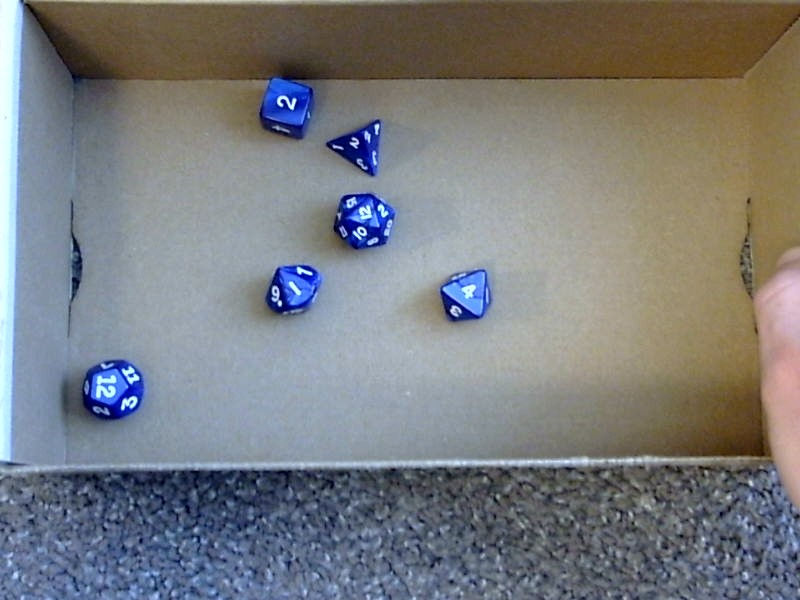d10 1: (256, 253, 322, 317)
d12 12: (79, 354, 145, 424)
d20 12: (329, 188, 395, 252)
d4 2: (319, 111, 383, 178)
d6 2: (249, 72, 315, 140)
d8 4: (432, 261, 496, 325)
